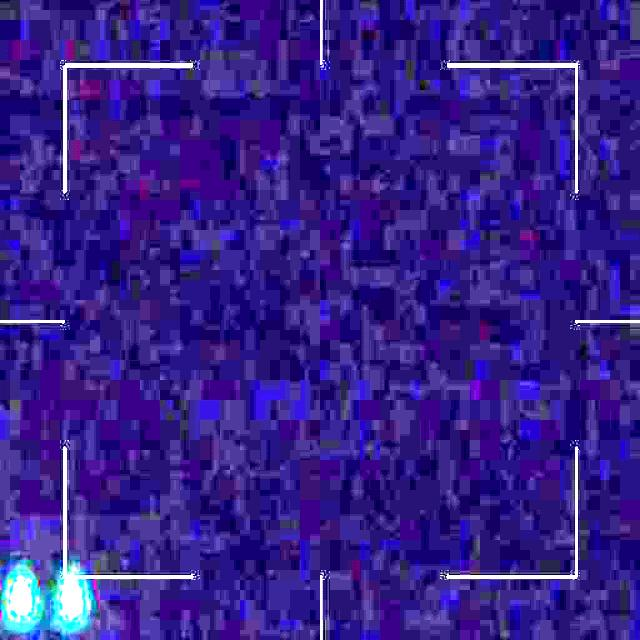bird: (9, 571, 86, 624)
